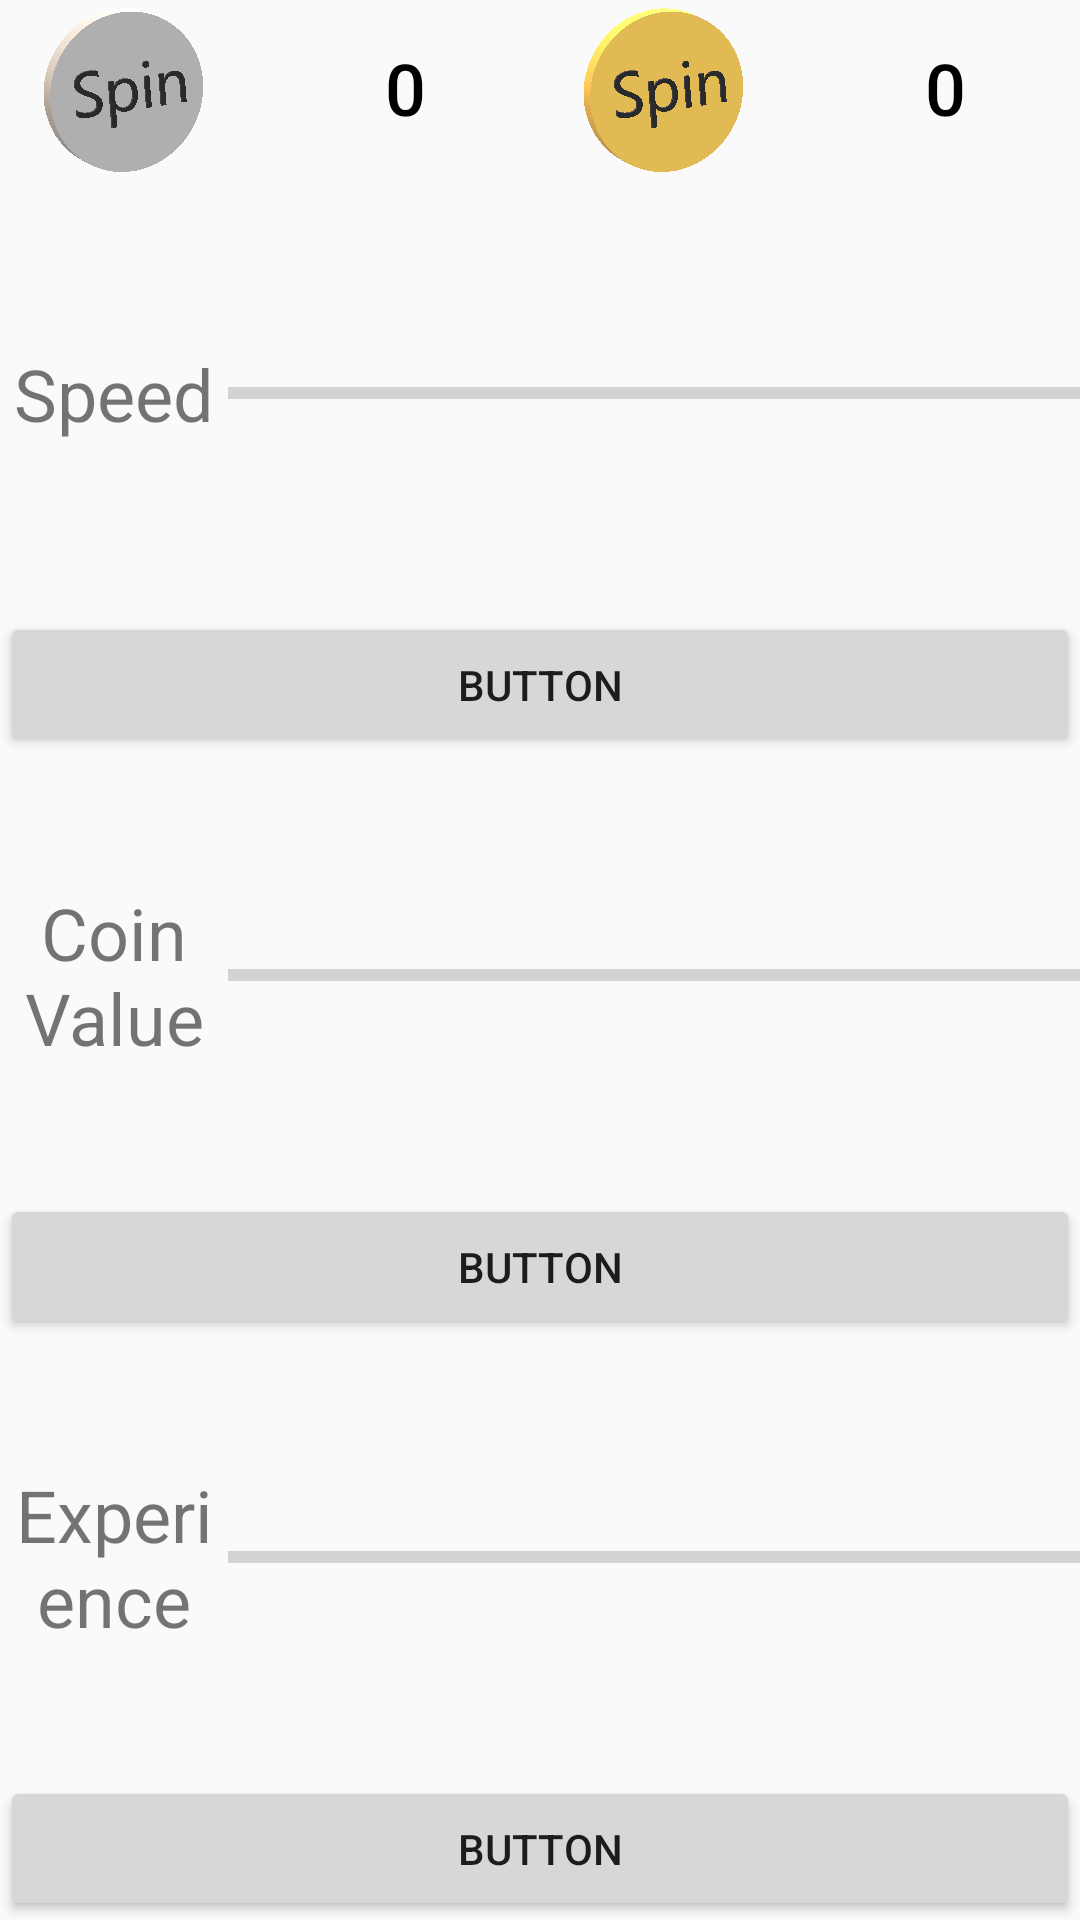

Named icons in this screenshot (1080px x 1920px) and their bounding boxes, (x1, y1, x2, y2):
gold coin: (584, 8, 743, 172)
silver coin: (44, 12, 203, 172)
